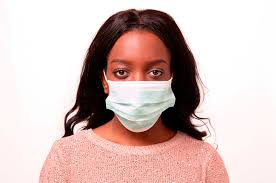with-mask: (91, 19, 200, 136)
